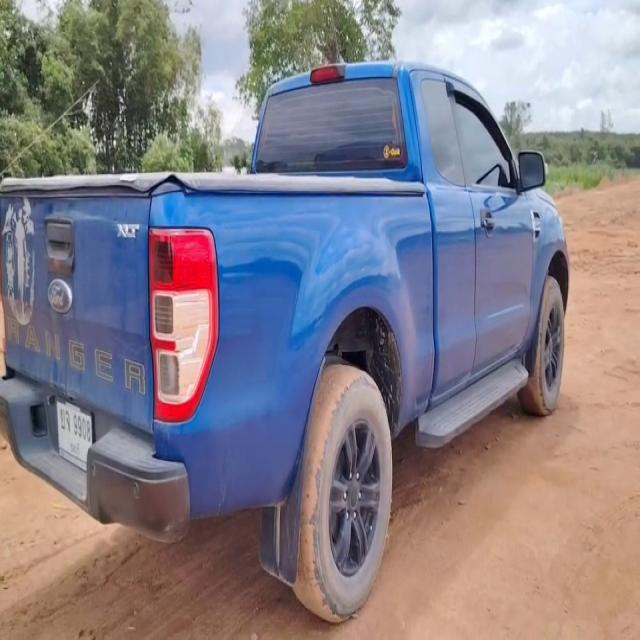Digit: (73, 413, 92, 445)
Licenseplate: (55, 393, 96, 480)
Provincename: (68, 437, 81, 461)
Thaichar: (59, 406, 71, 434)
